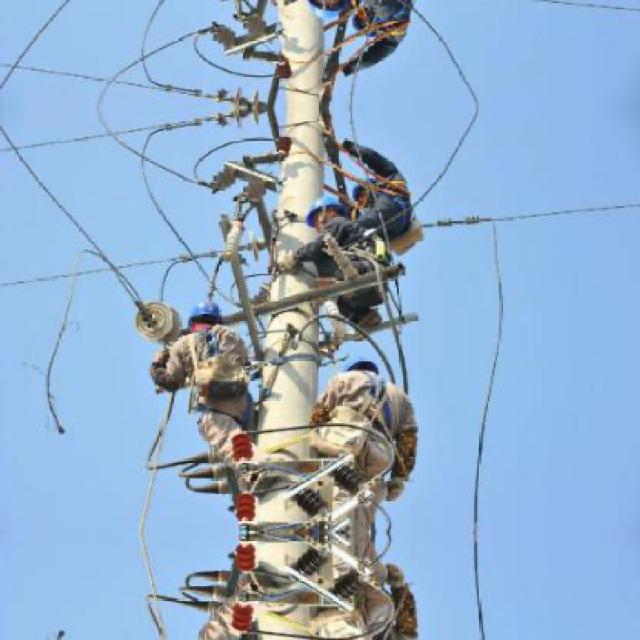con casco: (144, 270, 243, 375), (343, 347, 401, 397), (330, 189, 362, 241)
